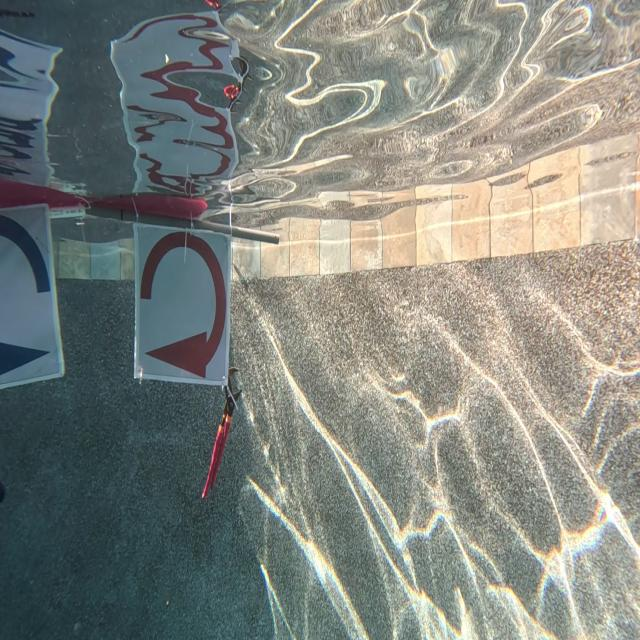blue_side: (0, 208, 65, 391)
red_side: (134, 224, 229, 390)
